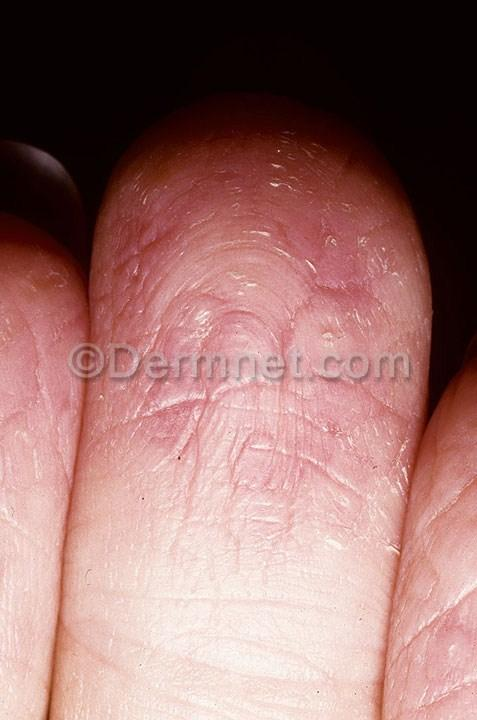Eczema: (91, 164, 382, 474)
